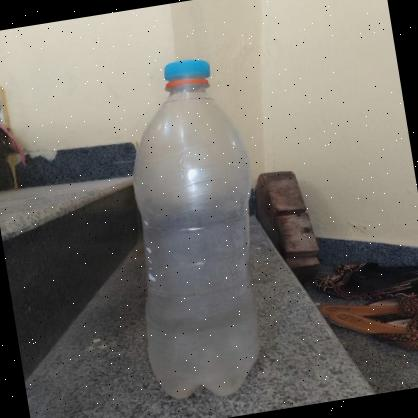bottle: (90, 42, 291, 418)
cap: (152, 52, 220, 94)
